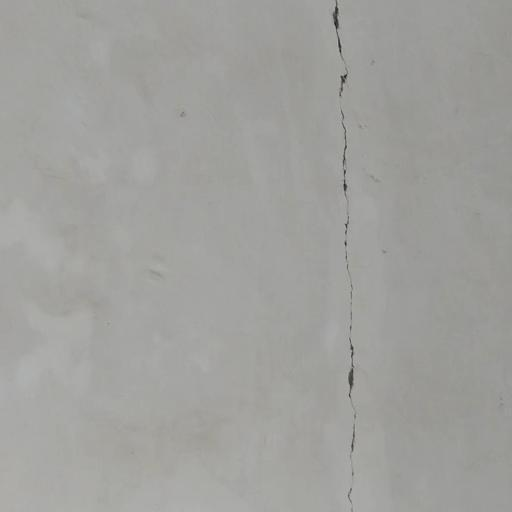major_crack: (316, 0, 384, 512)
